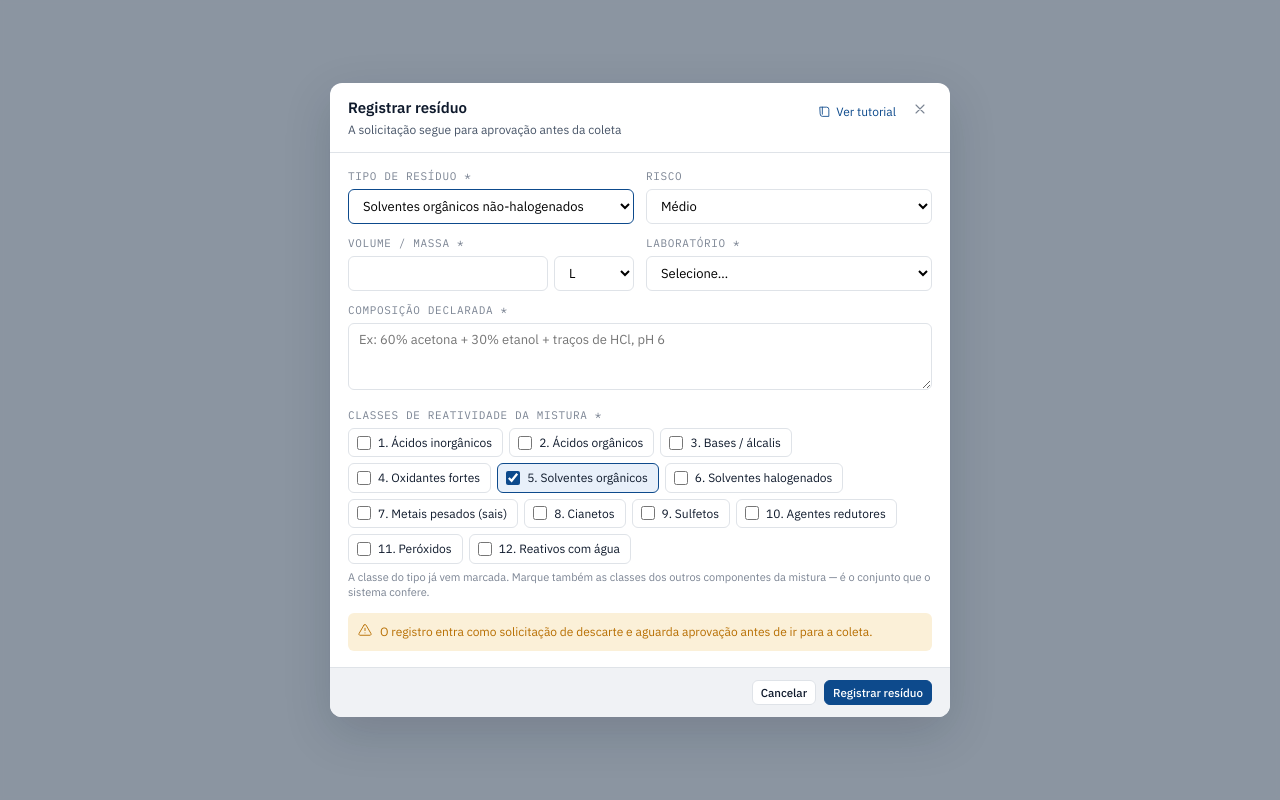
Scenario: FormNovoResiduo — entradas inválidas › tipo sem classe equivalente não marca nenhuma
Select "Vidraria contaminada" in the dropdown labelled "Tipo de resíduo *" at (491, 207), box [348, 189, 634, 224]
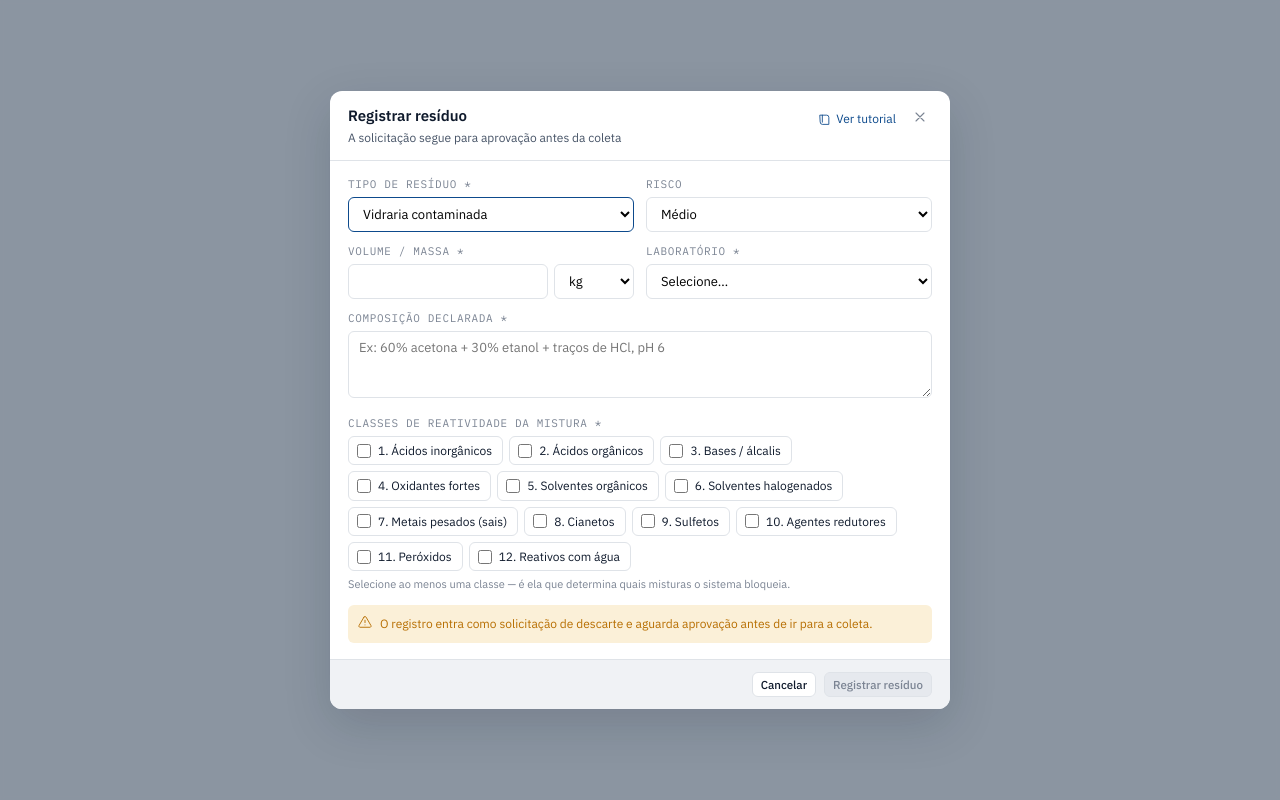
Result: the button "Registrar resíduo" is disabled at [824, 672, 932, 697]
